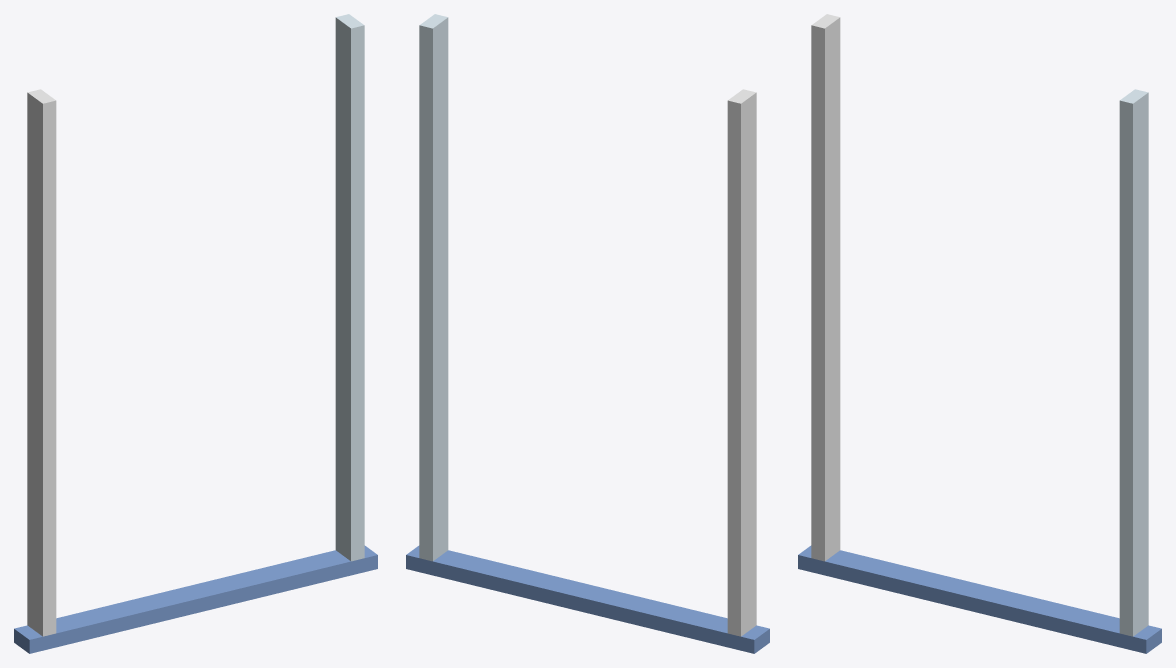
File: 1323 - staticStage.gltf
3 views of the same model, side by side, from view 1: azimuth 30°, elevation 25°; view 2: azimuth 150°, elevation 25°; view 3: azimuth 330°, elevation 25° (orthographic).
Parts seen in each view (by area): view 1: Part 10, Part 9, Part 8; view 2: Part 10, Part 9, Part 8; view 3: Part 9, Part 10, Part 8.
Boxes of the visible parts, <box> form: Part 10: <box>335,14,364,561</box>; Part 9: <box>27,89,56,636</box>; Part 8: <box>14,545,377,653</box>; Part 10: <box>419,14,448,561</box>; Part 9: <box>727,89,756,636</box>; Part 8: <box>406,545,769,653</box>; Part 9: <box>811,14,840,561</box>; Part 10: <box>1119,89,1148,636</box>; Part 8: <box>798,545,1161,653</box>.
Size of the model in its own units: 0.6604 by 0.9906 by 0.0508.
